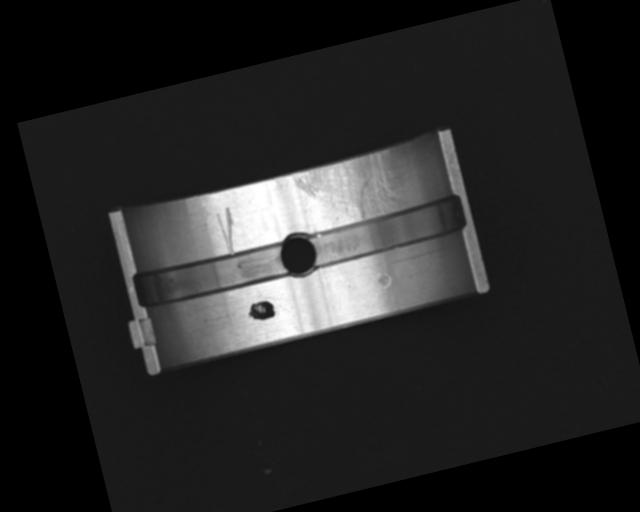blot: (244, 298, 277, 325)
bruise: (376, 270, 393, 289)
gap: (305, 192, 469, 269), (132, 240, 287, 311)
hole: (275, 229, 321, 281)
nick: (213, 206, 242, 258)
scratch: (291, 146, 407, 235)
